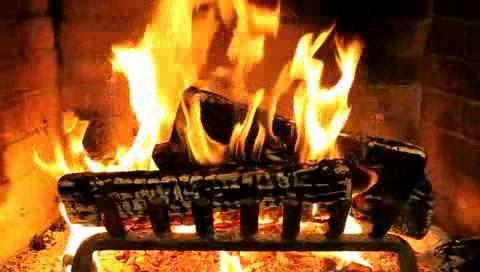fire: (96, 3, 376, 161), (54, 215, 112, 264), (28, 136, 88, 182), (306, 246, 381, 272), (208, 249, 250, 272)
